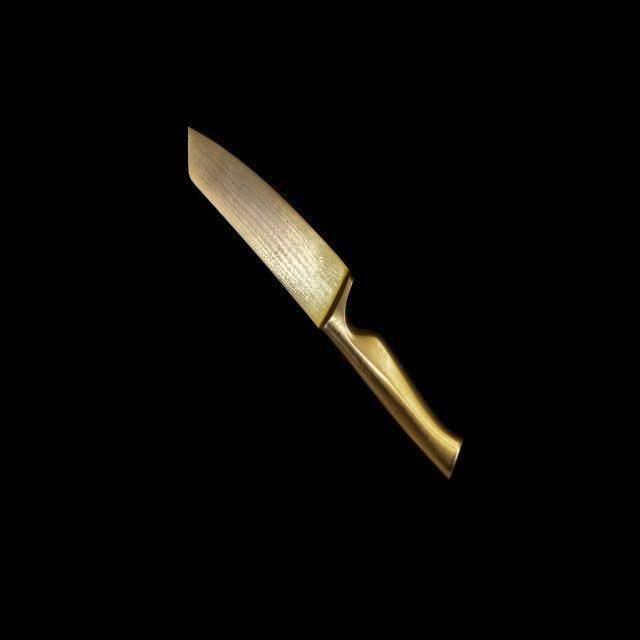knife: (183, 116, 472, 478)
